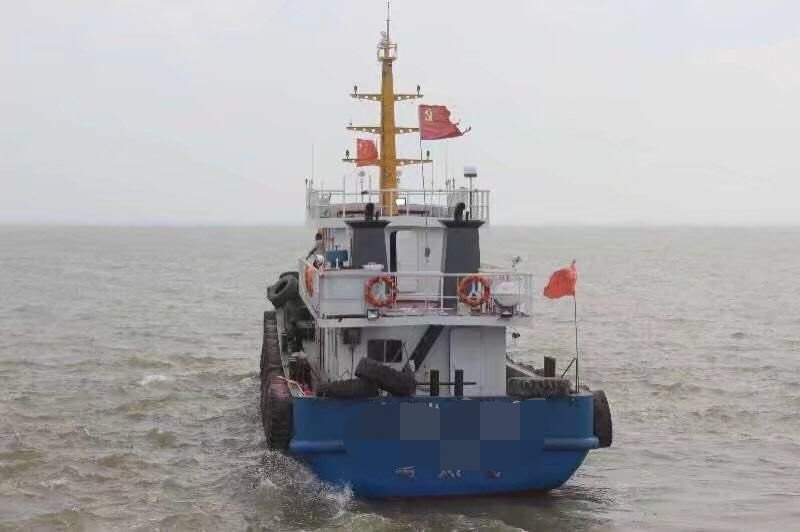otherboat: (255, 50, 616, 497)
